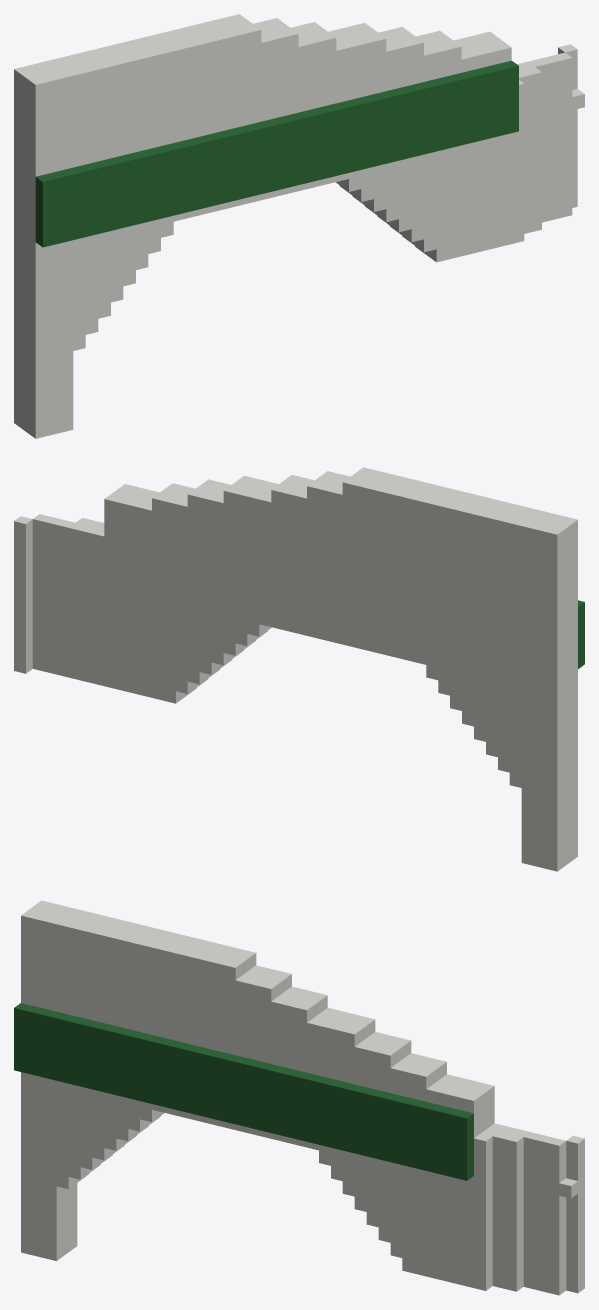
Rendered from animal_control_van_front_wing.glb.
The picture shows the model from 3 angles, top to bottom: view 1: azimuth 30°, elevation 25°; view 2: azimuth 150°, elevation 25°; view 3: azimuth 330°, elevation 25°; orthographic projection. The views are drawn at different scales.
Parts seen in each view (by area): view 1: body:compound; view 2: body:compound; view 3: body:compound.
Part boxes in pixels (x1=…): body:compound: x1=14, y1=14, x2=584, y2=438; body:compound: x1=14, y1=467, x2=584, y2=871; body:compound: x1=14, y1=900, x2=584, y2=1295.
Bounding box in the file's own units: 1.41 × 0.8438 × 0.1562.
